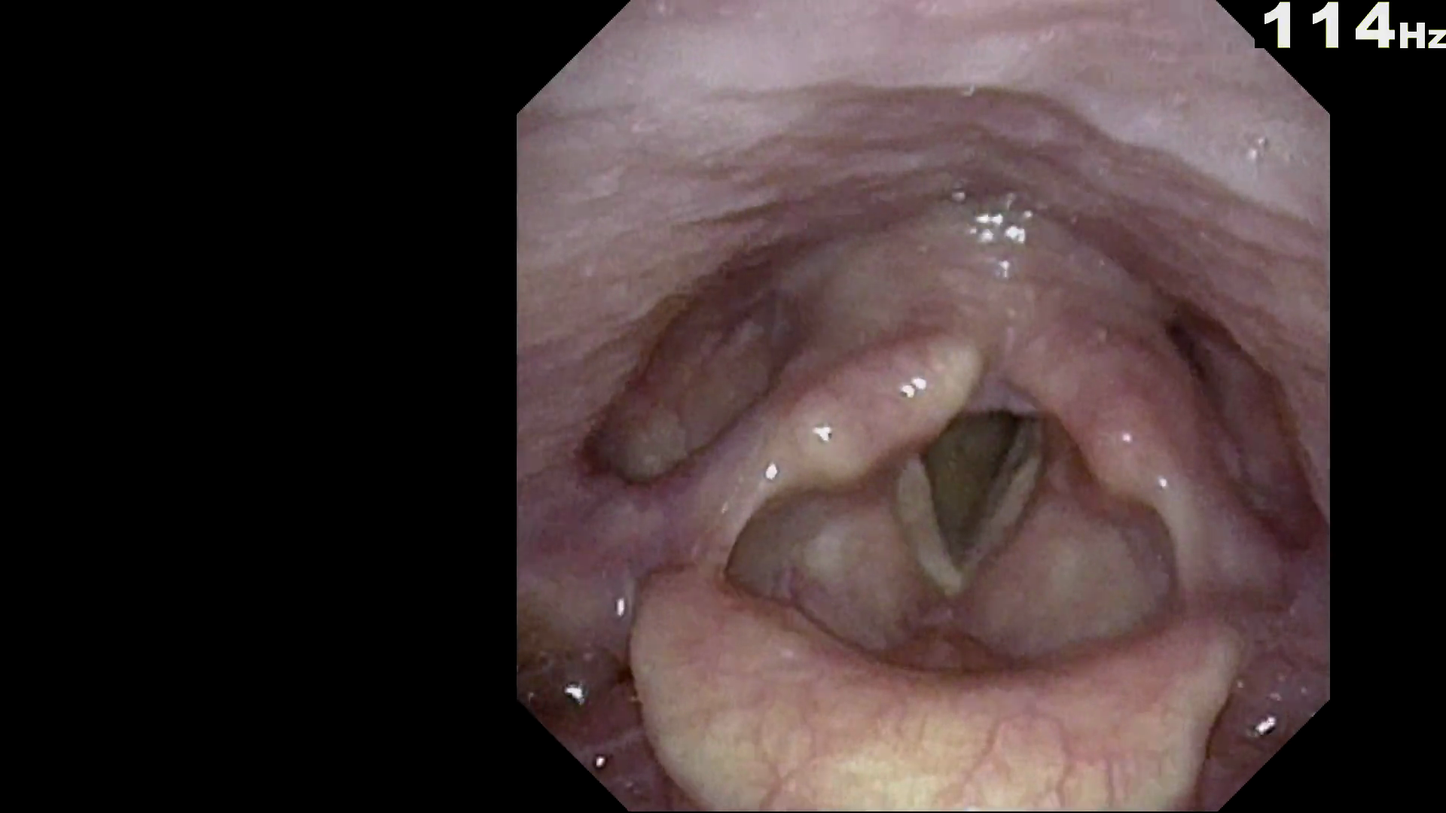epiglottis: (610, 503, 1243, 779)
trachea: (879, 369, 1058, 594)
